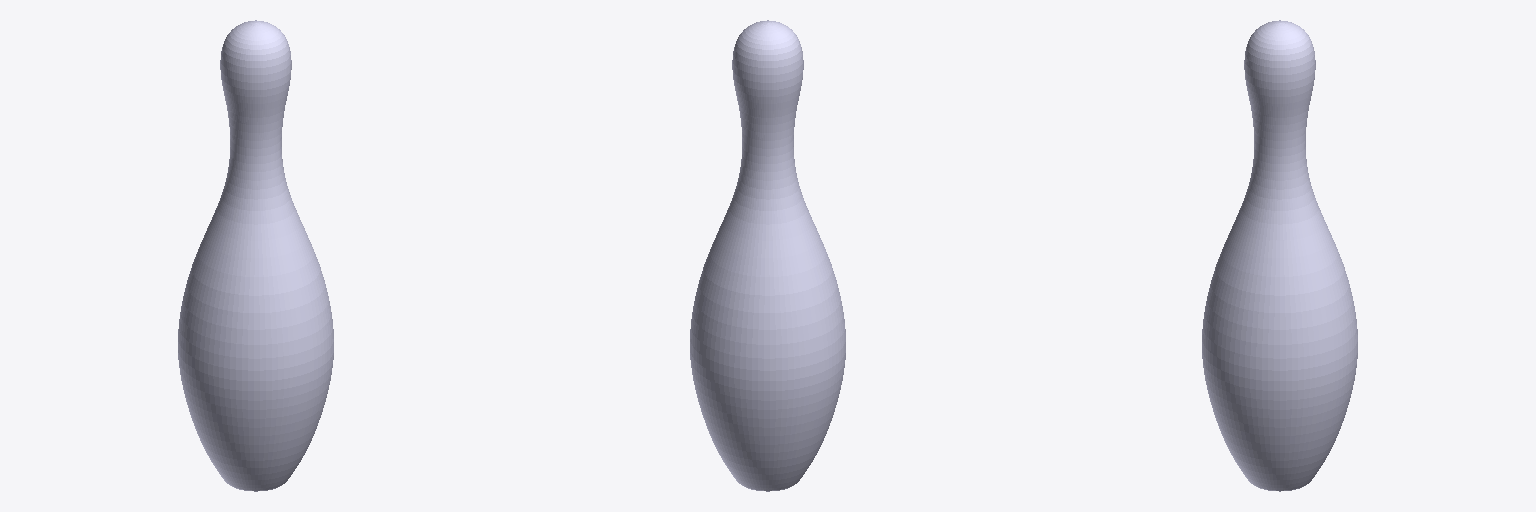
robot.urdf — pin:
<?xml version="1.0"?>
<robot xmlns="https://drake.mit.edu"
 xmlns:xsi="http://www.w3.org/2001/XMLSchema-instance"
 xsi:schemaLocation="https://drake.mit.edu ../../../../doc/drakeURDF.xsd" name="pin">

 <!-- Bowling pin -->
  <link name="pin">
    <inertial>
      <mass value="1.5"/>
      <origin xyz="0 0 0.127" rpy="0 0 0"/>
      <inertia ixx="0.05" ixy="0" ixz="0" iyy="0.05" iyz="0" izz="0.002"/>
    </inertial>

    <visual>
      <geometry>
        <mesh filename="./pin.obj" />
      </geometry>
      <material name="">
        <color rgba="0.9 0.9 1 1" />
      </material>
    </visual>
    <collision group="pin">
      <origin xyz="0 0 0.0815" rpy="0 0 0"/>
      <geometry>
        <cylinder radius="0.061" length="0.381"/>
      </geometry>
    </collision>

  </link>
</robot>

--- Render facts (derived) ---
3 views of the same robot in one strip: view 1: azimuth 30°, elevation 25°; view 2: azimuth 150°, elevation 25°; view 3: azimuth 270°, elevation 25° (orthographic).
Model pin with 1 links and 0 joints (none), rooted at pin, posed every joint at zero.
Links seen in each view (by area): view 1: pin; view 2: pin; view 3: pin.
Link boxes in pixels (x1,y1,x2,y2): pin: (178,20,333,491); pin: (690,20,845,491); pin: (1202,20,1357,491).
Bounding box of the posed robot: 0.1183 × 0.1183 × 0.3809 m (x, y, z).
1 mesh visuals loaded from 1 distinct referenced files (1 OBJ).
